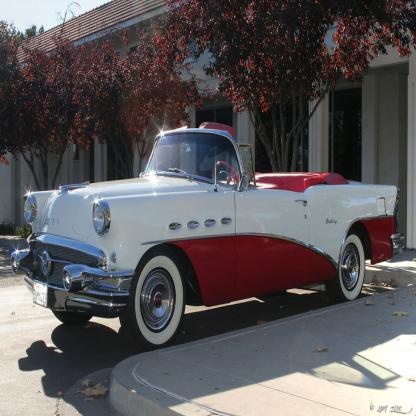Car: (12, 124, 400, 350)
